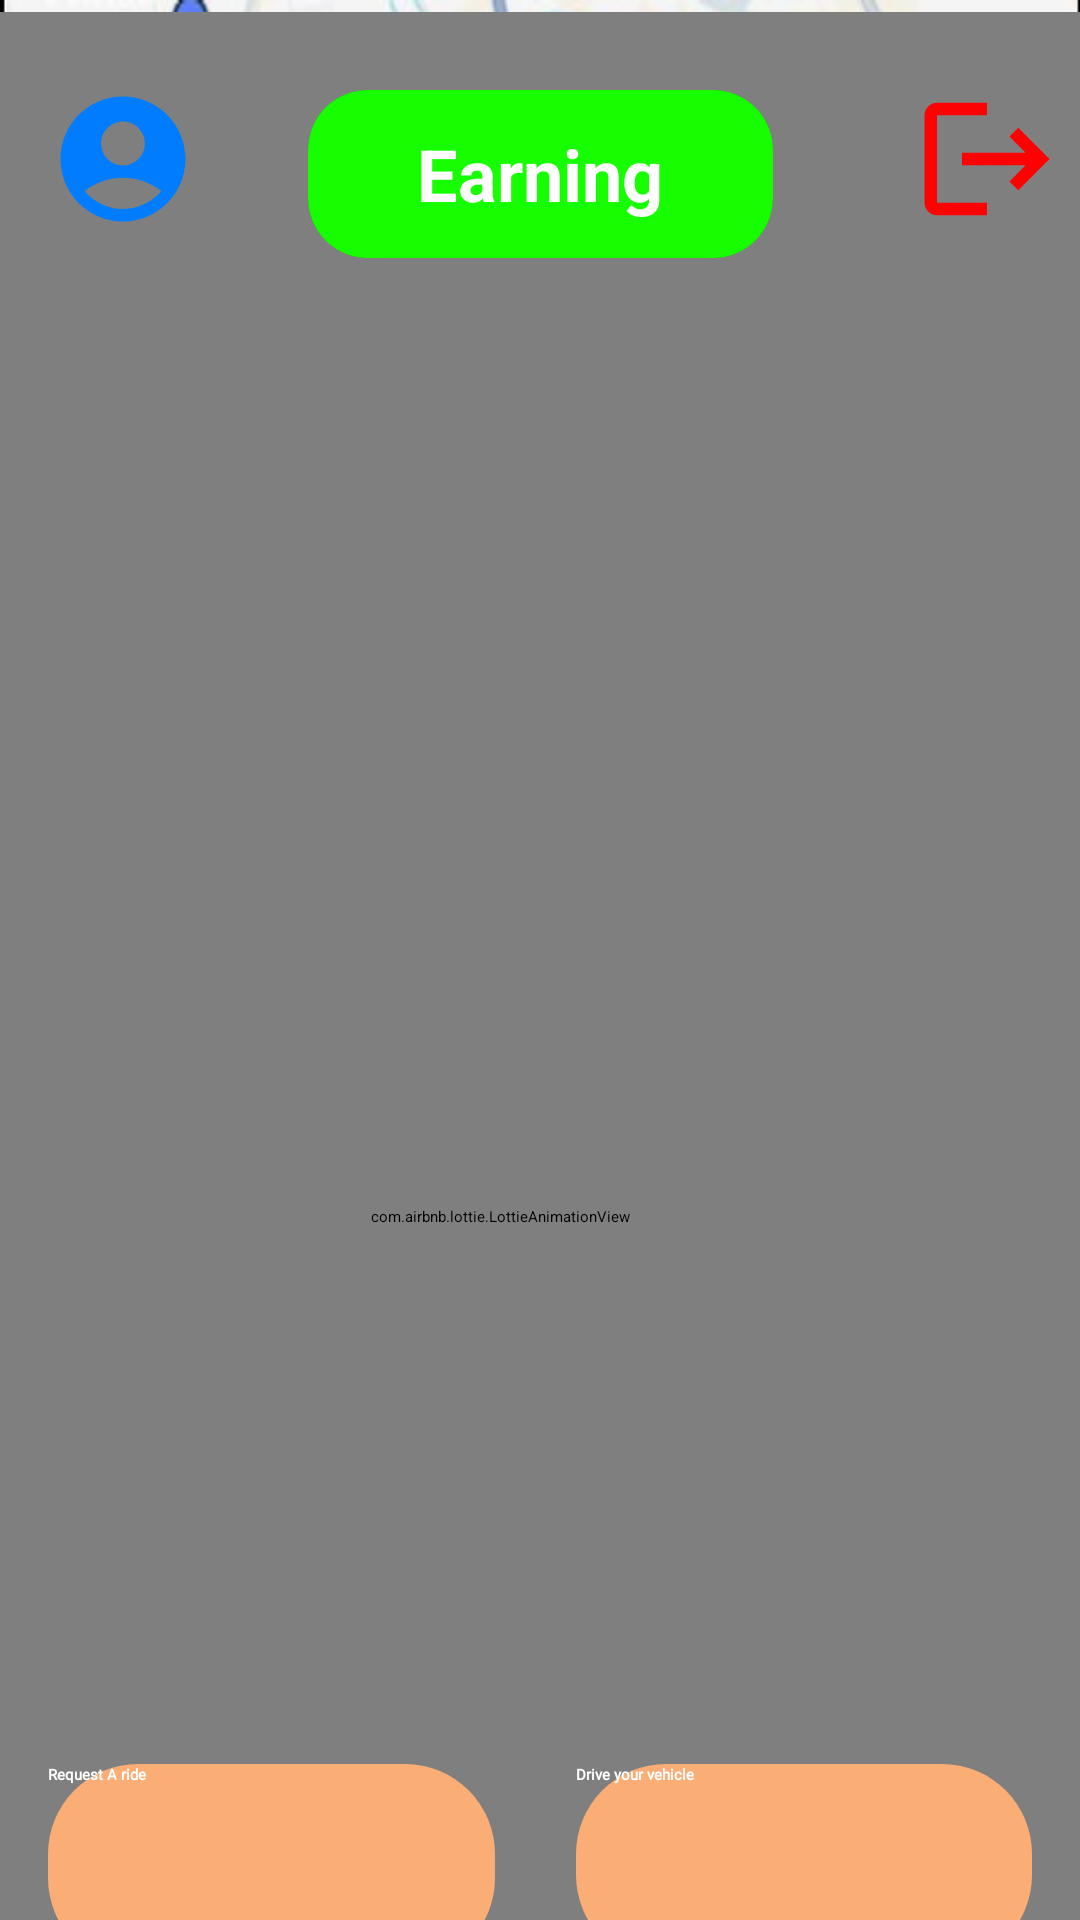

Named icons in this screenshot (1080*1920) and their bounding boxes, (x1, y1, x2, y2):
account circle: (60, 96, 186, 222)
